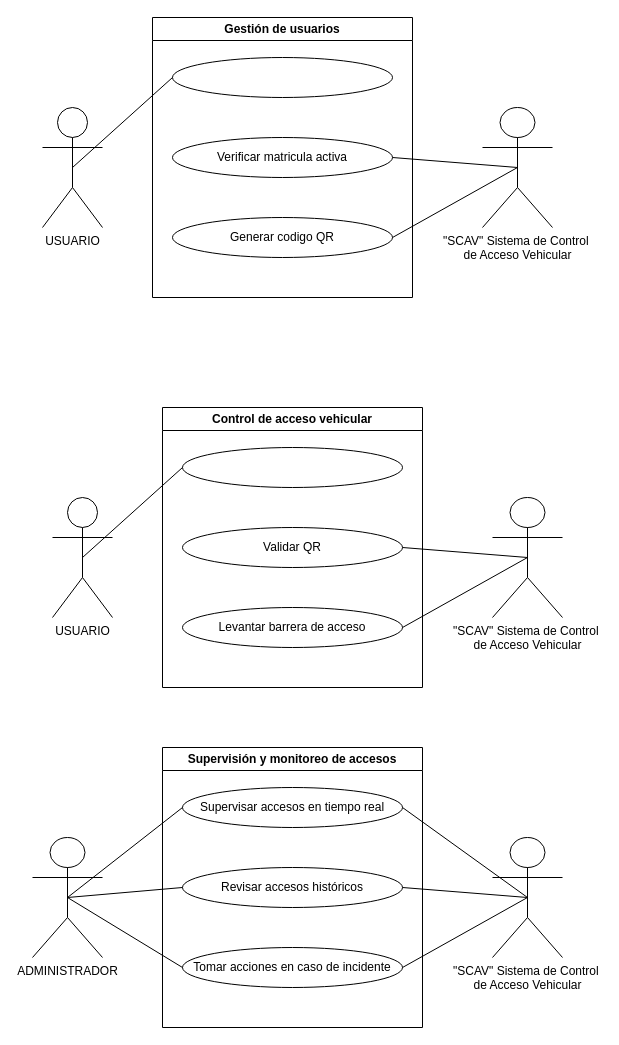
The diagram is 619 pixels wide and 1045 high, and some of its shapes have lost their labels. Each missing label, with the centre of its shape:
"Mostrar QR en lector" belongs at pixel 292 467.
"Registrar en la aplicación" belongs at pixel 282 77.
